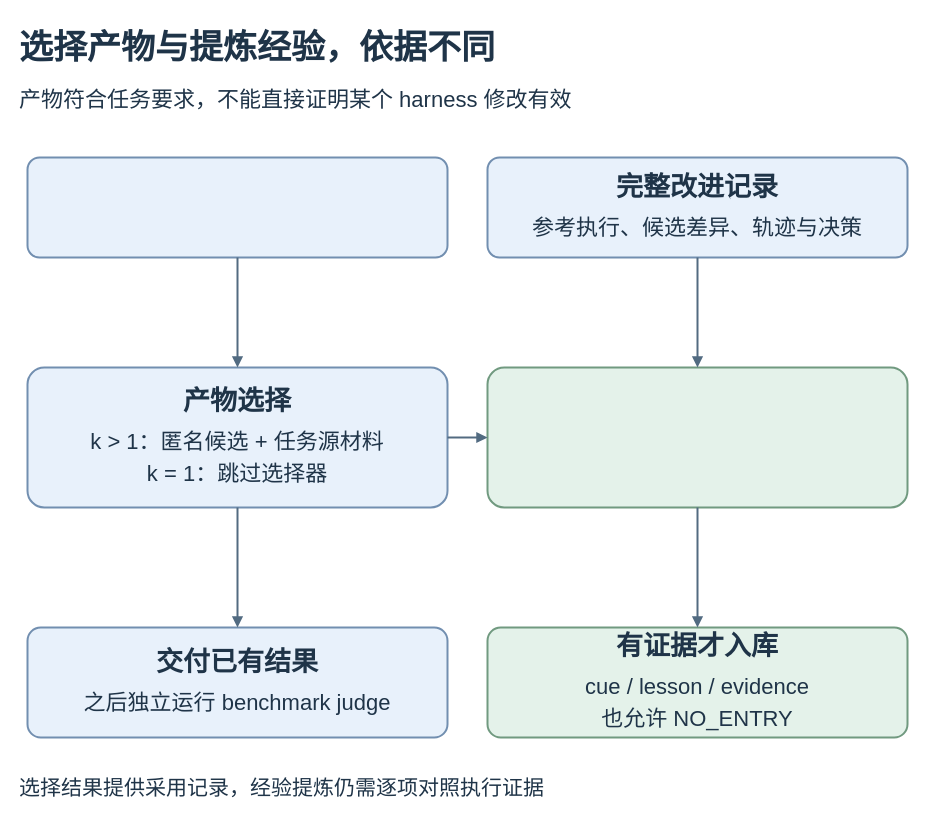
Image size: 934x824. Some labels were removed from this diagram. The shapes that lost their labels are listed below. From the top down, each one's centre as x and y in pixels, then its label:
At (237,207): "组合后的 k 份产物 不把参考执行放入最终候选池".
At (697,437): "经验提炼 修改带来什么行为变化？ 有混杂时标记 confounded".
